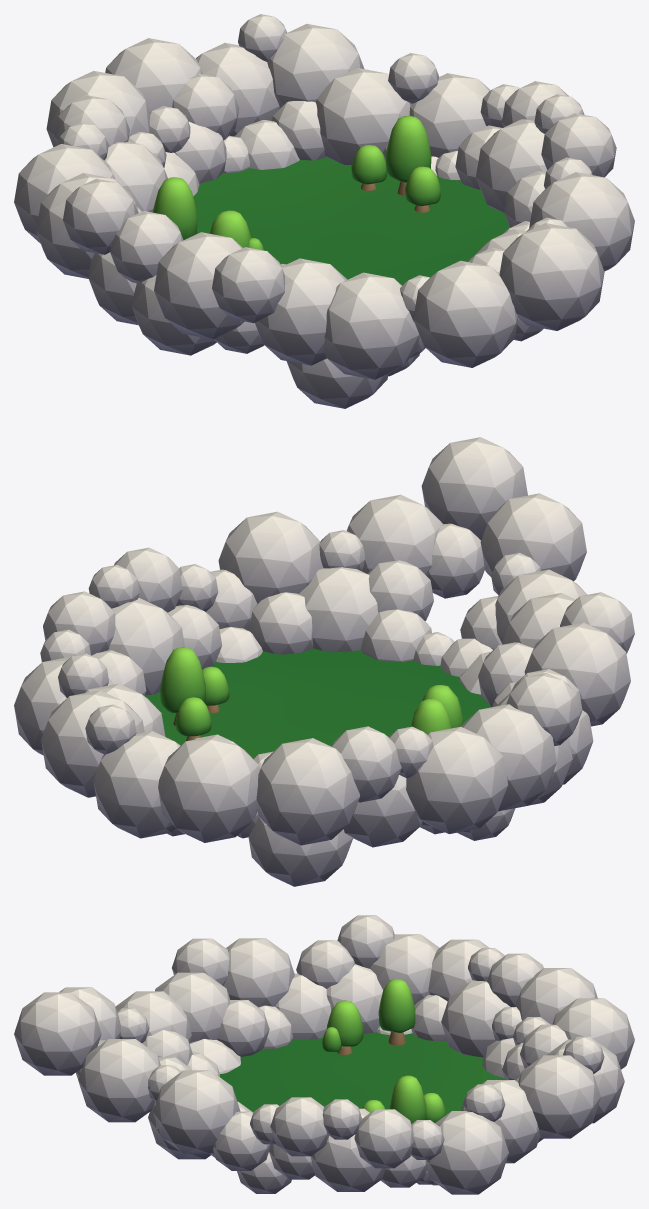
Rendered from env.glb.
3 views of the same model, one above another, from view 1: azimuth 30°, elevation 25°; view 2: azimuth 150°, elevation 25°; view 3: azimuth 270°, elevation 25° (orthographic). The views are drawn at different scales.
Visible parts, largest first — view 1: Ground, Cloud.059, Cloud.061, Cloud.055, Cloud.028, Cloud.003, Cloud.029, Cloud.045, Cloud.039, Cloud.030, Cloud.040, Cloud.002 (+38 smaller); view 2: Ground, Cloud.036, Cloud.031, Cloud.024, Cloud.061, Cloud.045, Cloud.059, Cloud.028, Cloud.035, Cloud.025, Cloud.053, Cloud.009 (+41 smaller); view 3: Ground, Cloud.061, Cloud.045, Cloud.053, Cloud.039, Cloud.040, Cloud.028, Cloud.005, Cloud.036, Cloud.029, Cloud.025, Cloud.043 (+42 smaller).
Part boxes in pixels (x1,y1,x2,y2): Ground: (193,157,509,285); Cloud.059: (413,260,517,367); Cloud.061: (499,224,604,330); Cloud.055: (324,272,419,379); Cloud.028: (154,232,244,339); Cloud.003: (315,68,410,164); Cloud.029: (255,258,347,365); Cloud.045: (529,172,634,271); Cloud.039: (267,23,364,108); Cloud.030: (212,247,284,323); Cloud.040: (409,73,490,157); Cloud.002: (476,119,547,212); Ground: (144,648,490,758); Cloud.036: (158,735,259,842); Cloud.031: (256,738,359,845); Cloud.024: (406,726,508,833); Cloud.061: (421,437,527,540); Cloud.045: (218,511,323,603); Cloud.059: (480,493,586,581); Cloud.028: (524,622,630,726); Cloud.035: (93,731,180,838); Cloud.025: (461,704,556,811); Cloud.053: (346,494,443,576); Cloud.009: (299,567,378,652); Ground: (220,1032,505,1114); Cloud.061: (14,992,101,1075); Cloud.045: (153,1070,240,1153); Cloud.053: (78,1039,160,1122); Cloud.039: (518,1055,600,1138); Cloud.040: (426,1111,508,1194); Cloud.028: (223,938,294,1007); Cloud.005: (441,980,509,1057); Cloud.036: (552,998,634,1069); Cloud.029: (155,972,230,1042); Cloud.025: (370,934,439,1004); Cloud.043: (354,1109,413,1168).
Size of the model in its own units: 466 by 185 by 605.
1 material, 1 textured.
